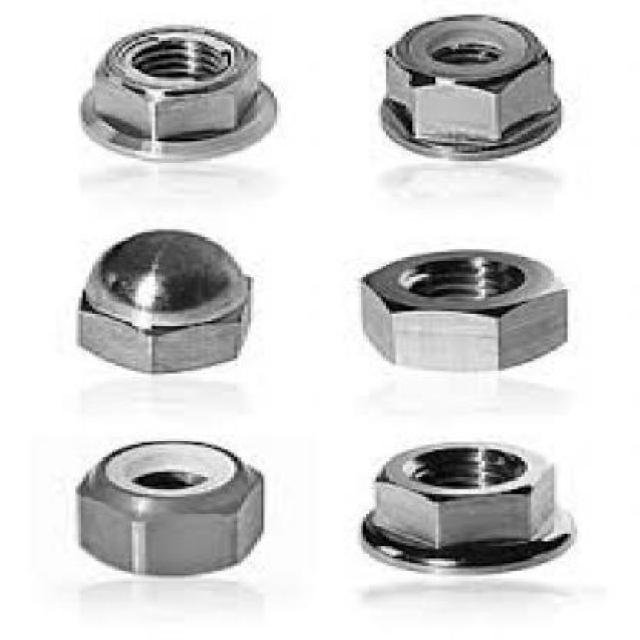metal: (357, 440, 575, 573), (75, 24, 273, 166), (377, 9, 558, 158), (72, 228, 247, 374), (77, 437, 261, 573), (360, 251, 565, 369)
